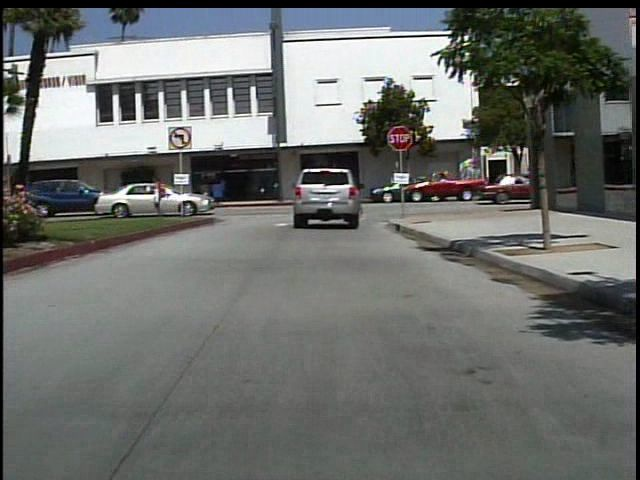person: (339, 169, 366, 226), (149, 173, 172, 218), (217, 174, 233, 203)
